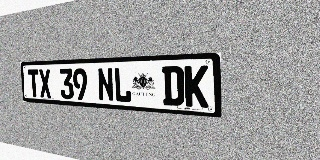3: (59, 68, 74, 99)
9: (73, 68, 88, 100)
D: (162, 66, 184, 106)
K: (184, 65, 208, 108)
L: (113, 67, 132, 103)
N: (97, 67, 114, 102)
T: (28, 69, 40, 97)
X: (38, 69, 52, 98)
